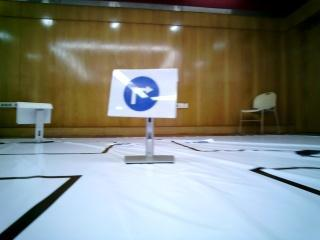right: (113, 68, 172, 111)
